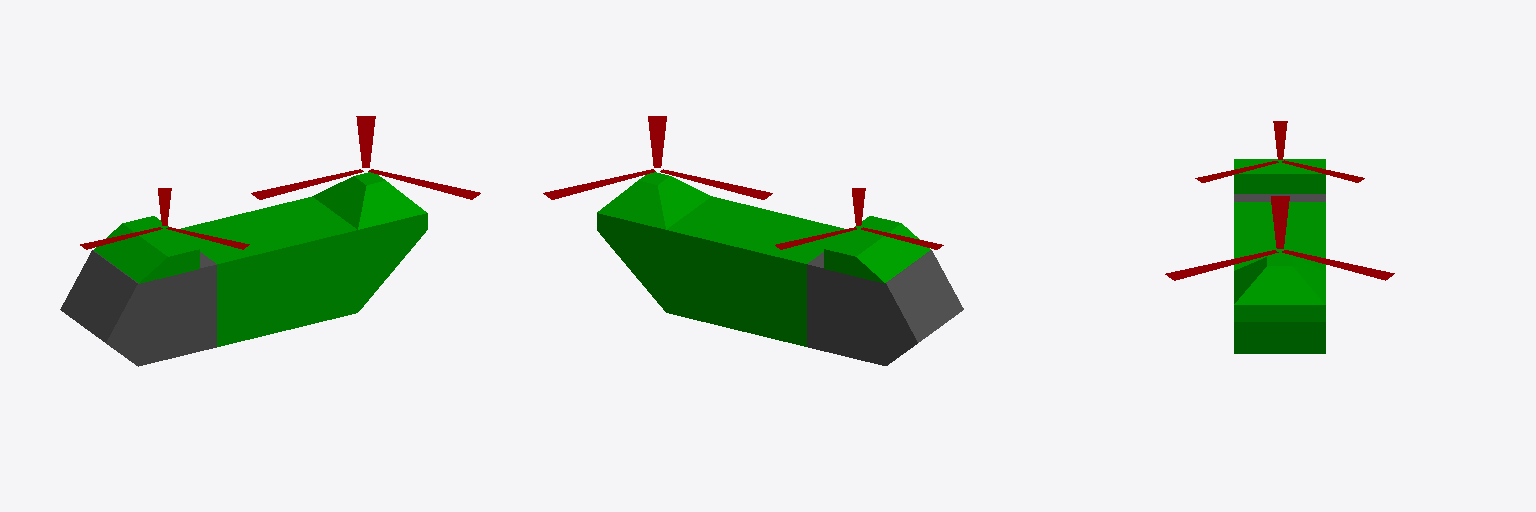
Rendered from enigma_helicopter_v2_tri.obj.
3 views of the same model, side by side, from view 1: azimuth 30°, elevation 25°; view 2: azimuth 150°, elevation 25°; view 3: azimuth 270°, elevation 25° (orthographic).
Visible parts, largest first — view 1: Cube, Cube.002_Cube.003, Cube.001_Cube.002; view 2: Cube, Cube.002_Cube.003, Cube.001_Cube.002; view 3: Cube, Cube.002_Cube.003, Cube.001_Cube.002.
Part boxes in pixels (bbox=[...]): Cube: bbox=[60, 172, 427, 366]; Cube.002_Cube.003: bbox=[251, 116, 480, 199]; Cube.001_Cube.002: bbox=[80, 188, 249, 249]; Cube: bbox=[597, 172, 963, 365]; Cube.002_Cube.003: bbox=[543, 116, 772, 199]; Cube.001_Cube.002: bbox=[775, 188, 943, 249]; Cube: bbox=[1234, 159, 1325, 353]; Cube.002_Cube.003: bbox=[1165, 196, 1394, 280]; Cube.001_Cube.002: bbox=[1195, 121, 1364, 182].
Size of the model in its own units: 8.73 by 2.86 by 5.04.